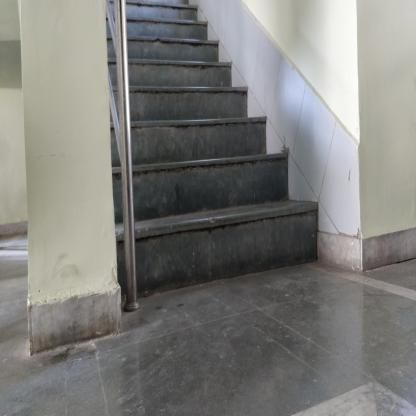stairs: (141, 38, 218, 319)
